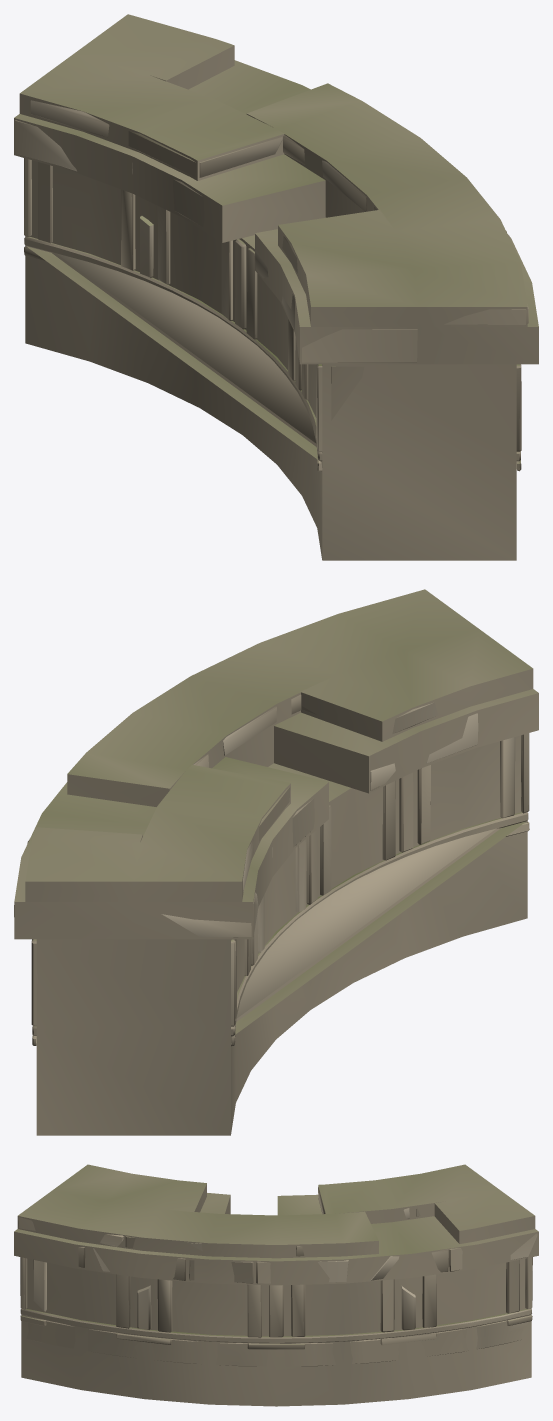
File: tholos_lintel.glb
3 views of the same model, one above another, from view 1: azimuth 30°, elevation 25°; view 2: azimuth 150°, elevation 25°; view 3: azimuth 270°, elevation 25° (orthographic). The views are drawn at different scales.
Parts seen in each view (by area): view 1: tholos_lintel_far, tholos_lintel; view 2: tholos_lintel_far, tholos_lintel; view 3: tholos_lintel_far, tholos_lintel.
Boxes of the visible parts, left/top/right/bottom form: tholos_lintel_far: left=14, top=14, right=538, bottom=560; tholos_lintel: left=15, top=100, right=528, bottom=471; tholos_lintel_far: left=14, top=589, right=538, bottom=1135; tholos_lintel: left=14, top=694, right=529, bottom=1046; tholos_lintel_far: left=14, top=1164, right=538, bottom=1406; tholos_lintel: left=18, top=1187, right=537, bottom=1366.
Bounding box in the file's own units: 8.46 × 7.5 × 21.7.
